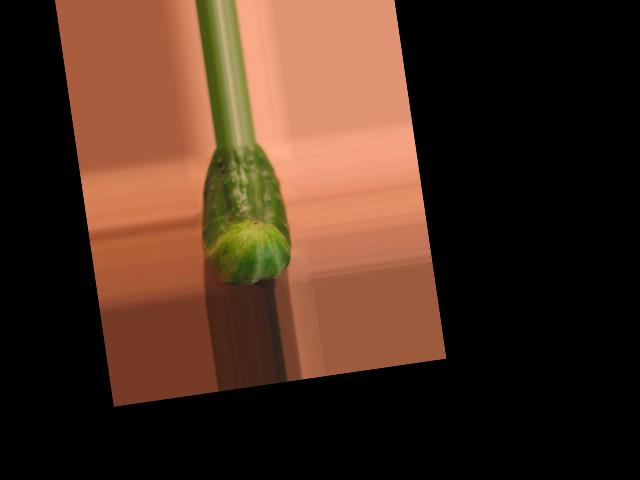cucumber: (189, 138, 296, 289)
